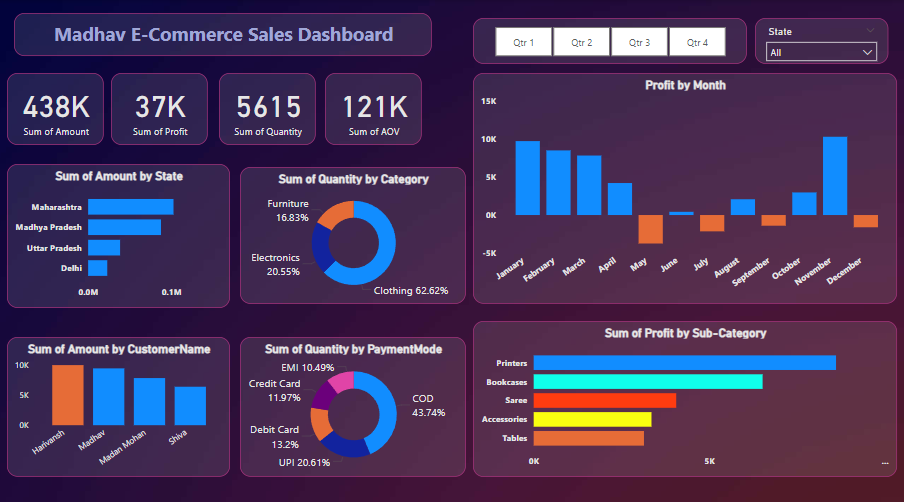

What the dashboard file says about the page in this screenshot:
{"tool":"powerbi","page":{"name":"Page 1","canvas":[1280,720],"ordinal":0},"visuals":[{"type":"textbox","box":[19.8,18.4,592.4,60.9],"z":0},{"type":"columnChart","title":"Profit by Month","fields":{"Category":["Orders.Order Date.Variation.Date Hierarchy.Month"],"Y":["Details.Profit"]},"box":[670.4,103.5,600.9,327.4],"z":1},{"type":"barChart","fields":{"Category":["Details.Sub-Category"],"Y":["Details.Profit"]},"box":[670.4,455,600.9,221.1],"z":2},{"type":"donutChart","fields":{"Category":["Details.Category"],"Y":["Details.Quantity"]},"box":[340.2,236.7,320.3,194.2],"z":3},{"type":"donutChart","fields":{"Y":["Details.Quantity"],"Category":["Details.PaymentMode"]},"box":[340.2,477.6,320.3,198.4],"z":4},{"type":"card","fields":{"Values":["Details.Amount"]},"box":[9.9,103.5,137.5,102],"z":5},{"type":"card","fields":{"Values":["Details.Profit"]},"box":[157.3,103.5,137.5,102],"z":6},{"type":"card","fields":{"Values":["Details.Quantity"]},"box":[310.4,103.5,137.5,102],"z":7},{"type":"card","fields":{"Values":["Details.AOV"]},"box":[460.6,103.5,137.5,102],"z":8},{"type":"barChart","fields":{"Category":["Orders.State"],"Y":["Details.Amount"]},"box":[9.9,232.4,316.1,204.1],"z":9},{"type":"columnChart","fields":{"Category":["Orders.CustomerName"],"Y":["Details.Amount"]},"box":[10,478,316,198],"z":10},{"type":"slicer","fields":{"Values":["Orders.Order Date.Variation.Date Hierarchy.Quarter"]},"box":[670.4,25.5,388.3,65.2],"z":11},{"type":"slicer","fields":{"Values":["Orders.State"]},"box":[1070.1,25.5,188.5,65.2],"z":12}]}

Visuals, with their boxes in screenshot pixels (x1, y1, x2, y2), scaled from the page's 1280x720 canvas onto the 904x502 screenshot:
textbox: left=14, top=13, right=432, bottom=55
"Profit by Month" columnChart: left=473, top=72, right=898, bottom=300
barChart - Details.Sub-Category x Details.Profit: left=473, top=317, right=898, bottom=471
donutChart - Details.Category x Details.Quantity: left=240, top=165, right=466, bottom=300
donutChart - Details.Quantity x Details.PaymentMode: left=240, top=333, right=466, bottom=471
card - Details.Amount: left=7, top=72, right=104, bottom=143
card - Details.Profit: left=111, top=72, right=208, bottom=143
card - Details.Quantity: left=219, top=72, right=316, bottom=143
card - Details.AOV: left=325, top=72, right=422, bottom=143
barChart - Orders.State x Details.Amount: left=7, top=162, right=230, bottom=304
columnChart - Orders.CustomerName x Details.Amount: left=7, top=333, right=230, bottom=471
slicer - Orders.Order Date.Variation.Date Hierarchy.Quarter: left=473, top=18, right=748, bottom=63
slicer - Orders.State: left=756, top=18, right=889, bottom=63
